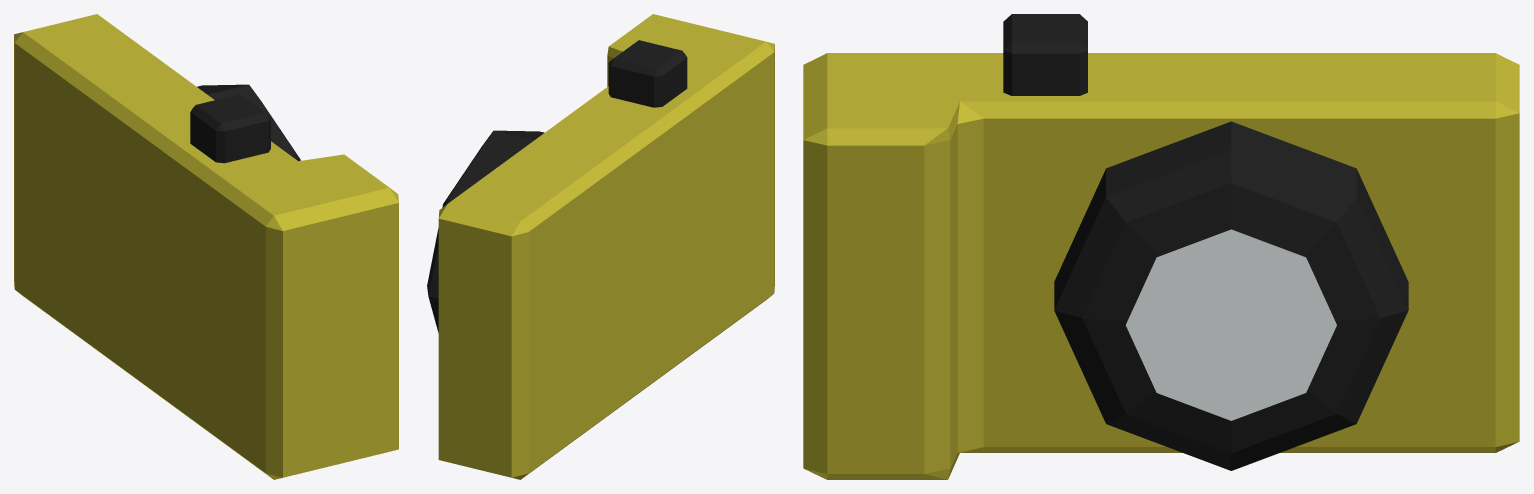
File: Camera.fbx
3 views of the same model, side by side, from view 1: azimuth 30°, elevation 25°; view 2: azimuth 150°, elevation 25°; view 3: azimuth 270°, elevation 25° (orthographic). The views are drawn at different scales.
Parts seen in each view (by area): view 1: CameraBody, CameraButton, Lens; view 2: CameraBody, CameraButton, Lens; view 3: CameraBody, Lens, Lens2, CameraButton.
Boxes of the visible parts, box(x1,y1,x2,y2) form: CameraBody: box(14, 14, 398, 479); CameraButton: box(190, 94, 270, 163); Lens: box(197, 84, 300, 161); CameraBody: box(438, 14, 774, 479); CameraButton: box(608, 40, 687, 107); Lens: box(427, 130, 544, 332); CameraBody: box(803, 53, 1519, 479); Lens: box(1054, 121, 1408, 470); Lens2: box(1125, 229, 1336, 420); CameraButton: box(1003, 14, 1087, 95).
Bounding box in the file's own units: 125 × 228 × 369.
